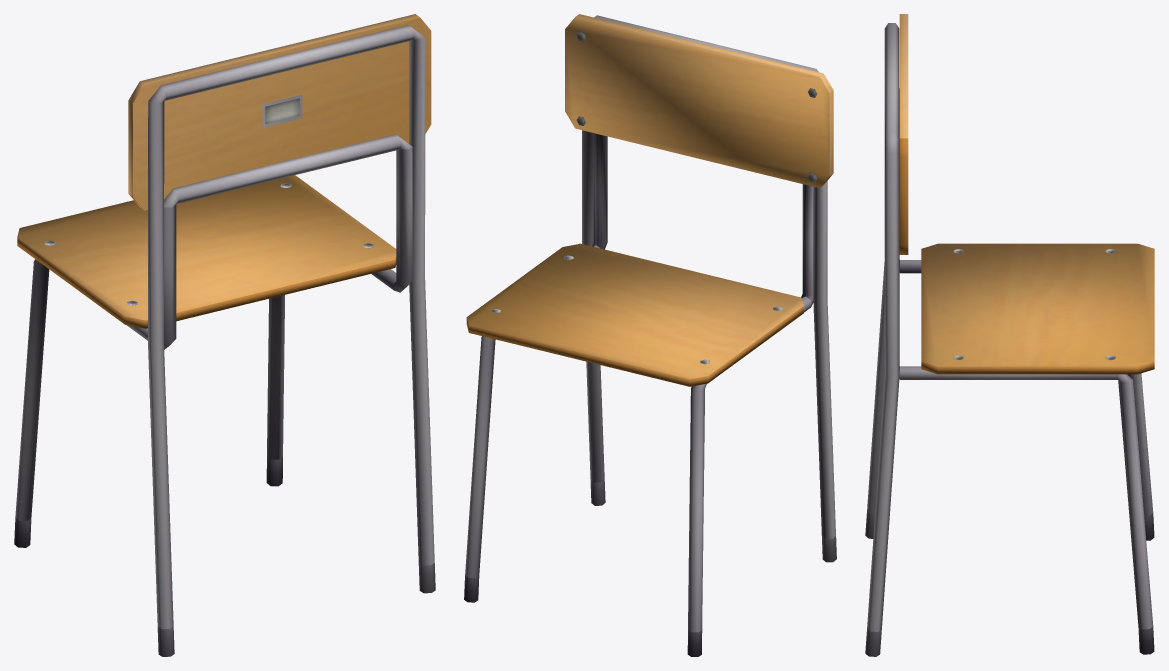
File: chair_type00.FBX
3 renders of one model, left to right at view 1: azimuth 30°, elevation 25°; view 2: azimuth 150°, elevation 25°; view 3: azimuth 270°, elevation 25°, orthographic. The views are drawn at different scales.
Parts seen in each view (by area): view 1: crm_chairA000; view 2: crm_chairA000; view 3: crm_chairA000.
Part boxes in pixels (x1,y1,x2,y2): crm_chairA000: (14,14,435,656); crm_chairA000: (464,14,836,656); crm_chairA000: (865,14,1154,656).
Bounding box in the file's own units: 50.77 × 91.22 × 46.09.
